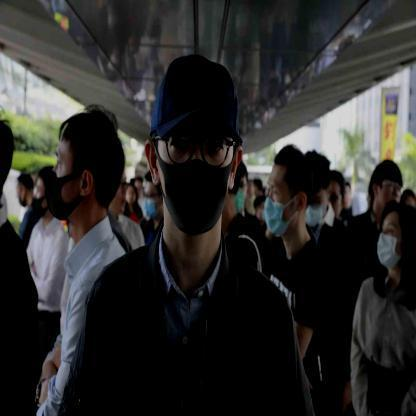with_mask: (147, 54, 245, 238), (44, 108, 128, 230), (261, 146, 313, 237), (373, 205, 415, 279), (299, 149, 333, 229), (31, 165, 55, 215), (231, 161, 249, 213), (143, 173, 161, 220)
without_mask: (369, 160, 404, 212), (125, 183, 137, 206)
